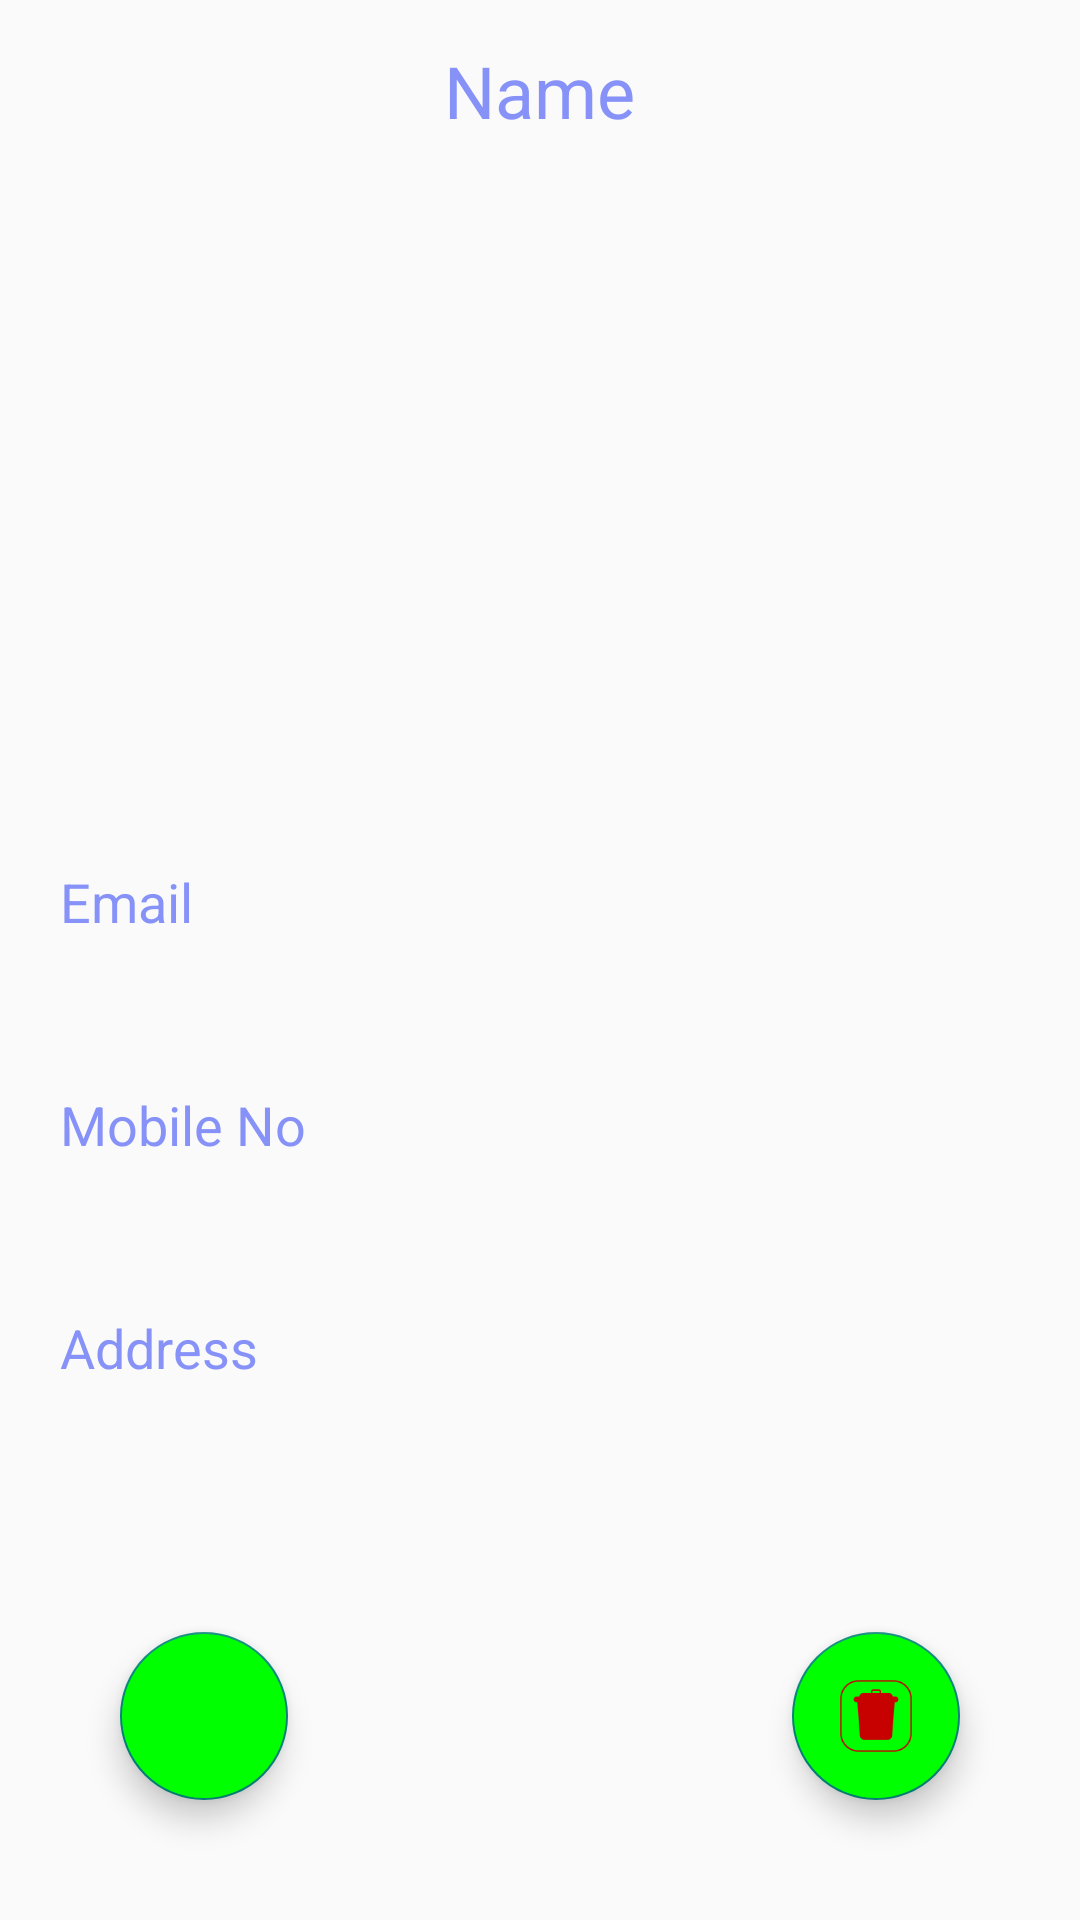

Locate icon controls on the screen. Image size 1080px×1920px, boxes as (x1, y1, x2, y2).
delete: (792, 1632, 960, 1800)
